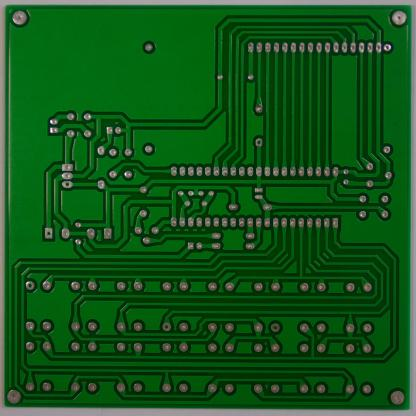missing_hole: (42, 226, 54, 240), (269, 322, 281, 334), (161, 321, 172, 333), (24, 281, 36, 291), (62, 180, 73, 190), (254, 136, 264, 146)
